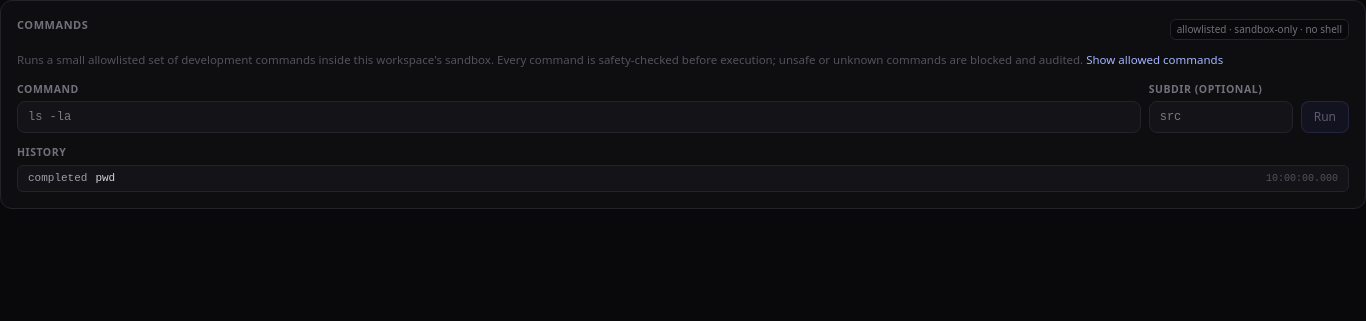
Test case: SandboxCommandsPanel › renders a timed-out result
Type "npm test" into the field with placeholder "ls -la" at x=579, y=117, box [17, 101, 1141, 133]
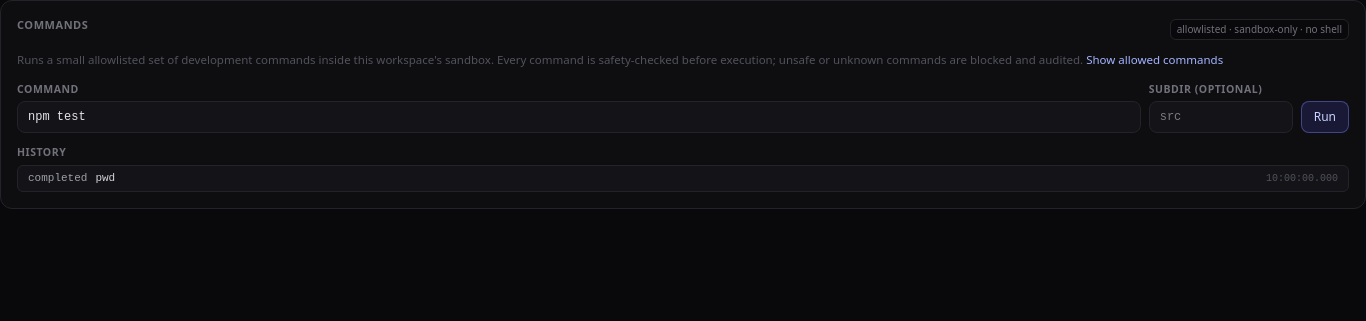
Click the button "Run" at x=1325, y=117, box [1301, 101, 1349, 133]
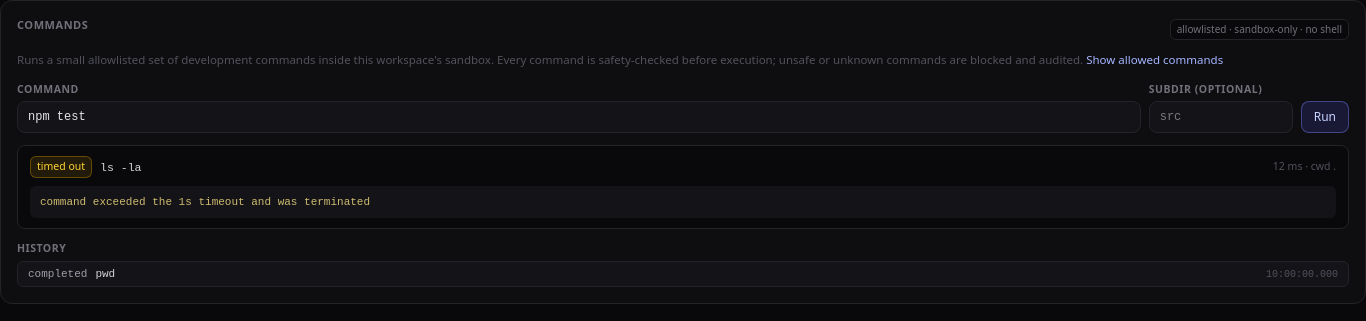
Result: the element with test id "command-outcome" shows "timed out" at [37, 159, 85, 173]
Result: the element with test id "command-outcome" shows "exceeded the 1s timeout" at [40, 196, 370, 208]
